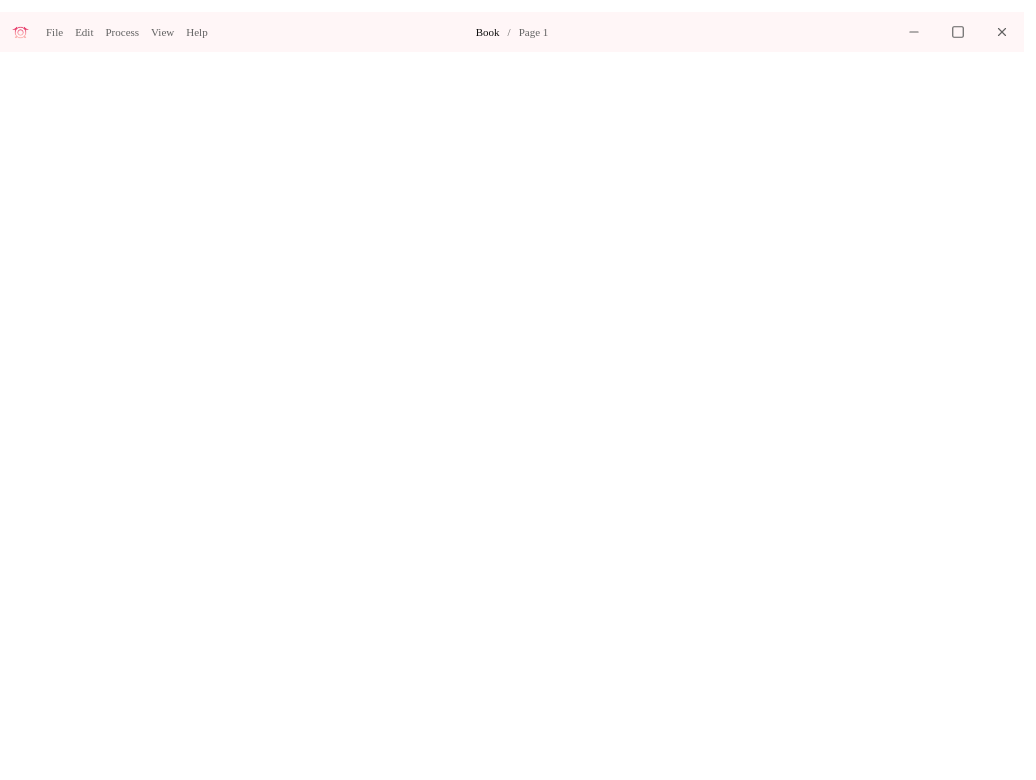
Test case: greenfield editor › clears import activity after failure
Click the menu item "File" at coordinates (55, 32), box x1=40 y1=20 x2=69 y2=44
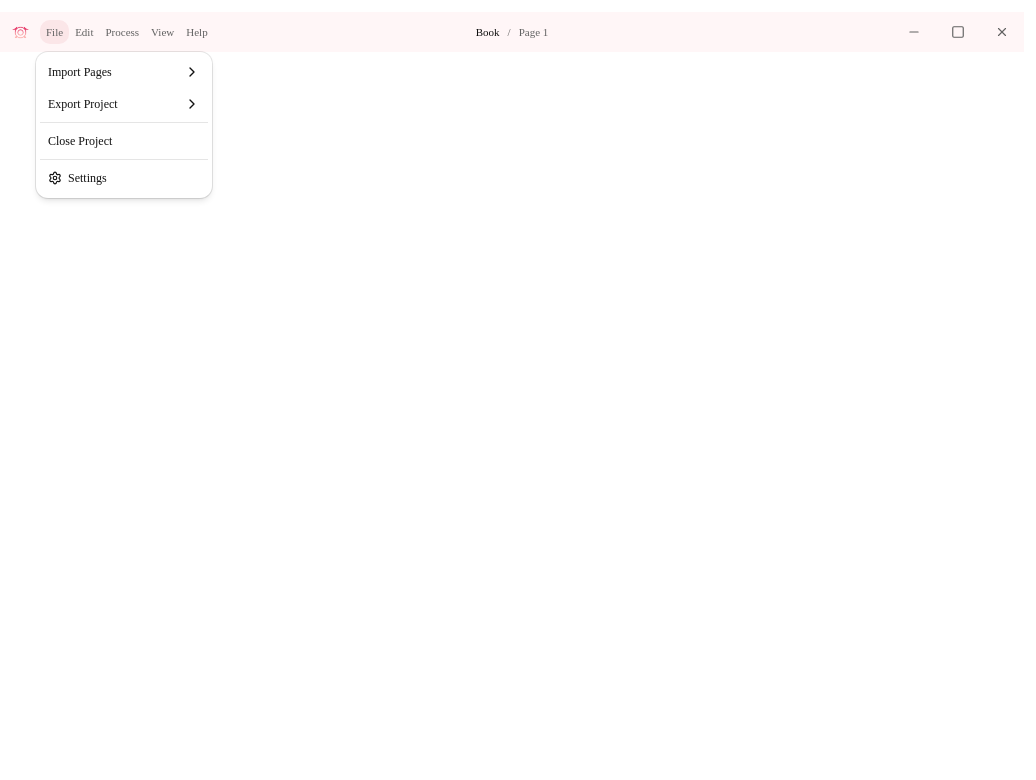
Hover over the menu item "Import Pages" at coordinates (80, 72), box x1=48 y1=64 x2=200 y2=80
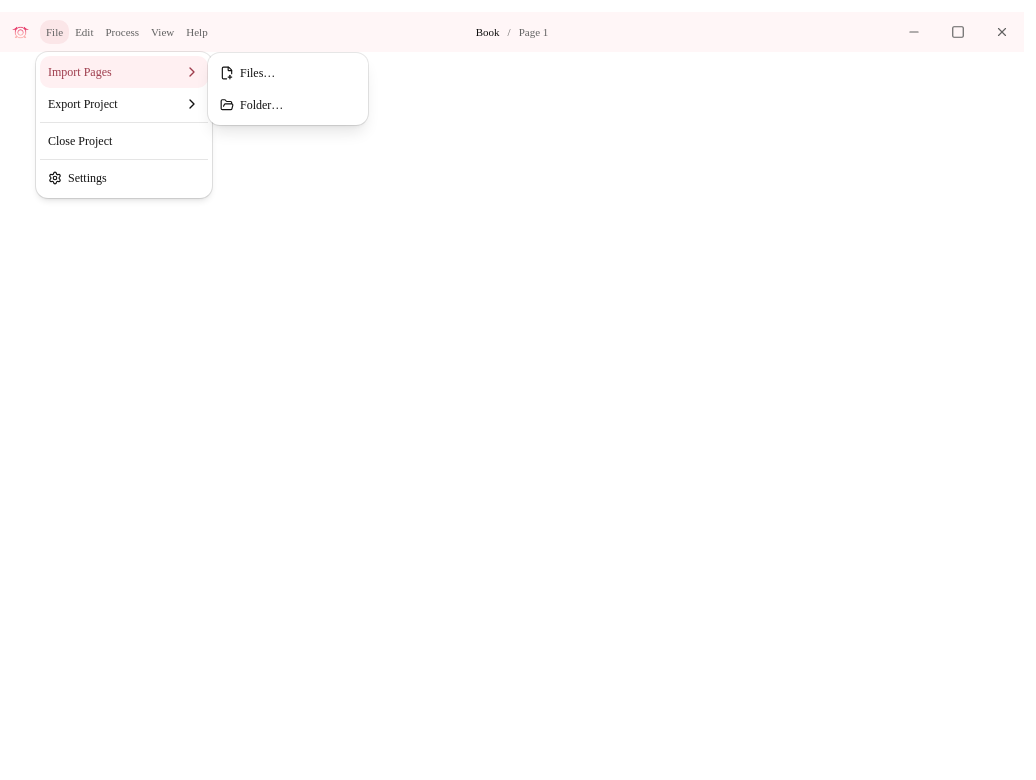
Click the menu item "Files…" at coordinates (248, 73), box x1=220 y1=66 x2=275 y2=80
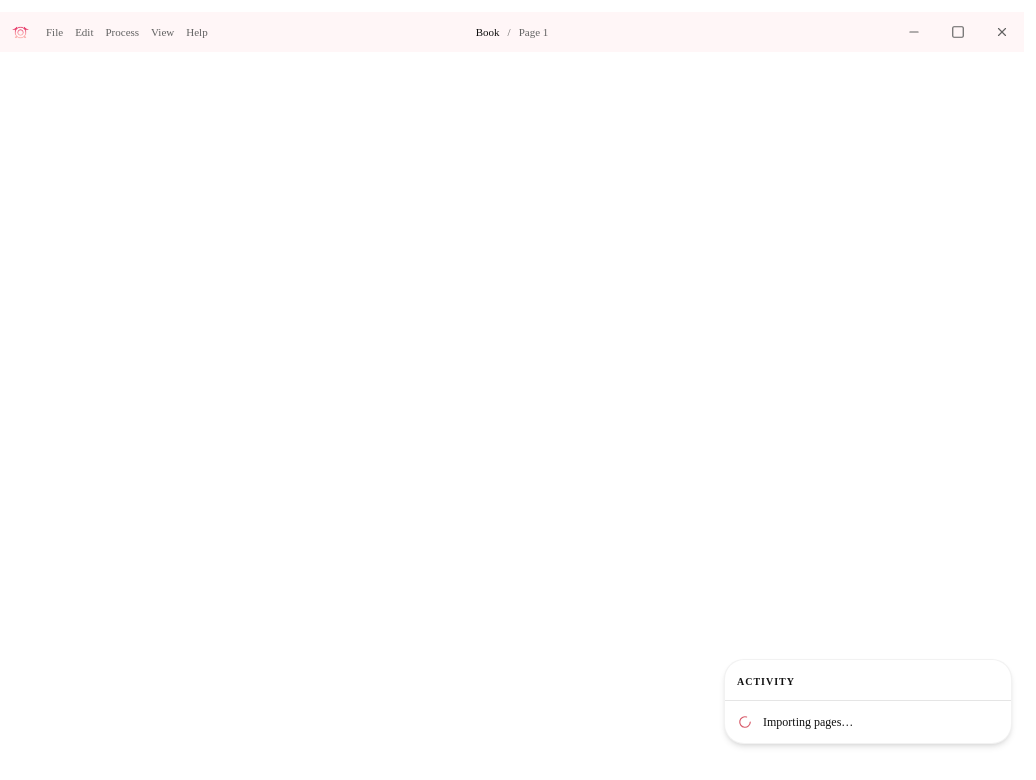
Expected: the message reads "Importing pages…", x1=763 y1=715 x2=853 y2=729
Click the menu item "File" at coordinates (55, 32), box x1=40 y1=20 x2=69 y2=44
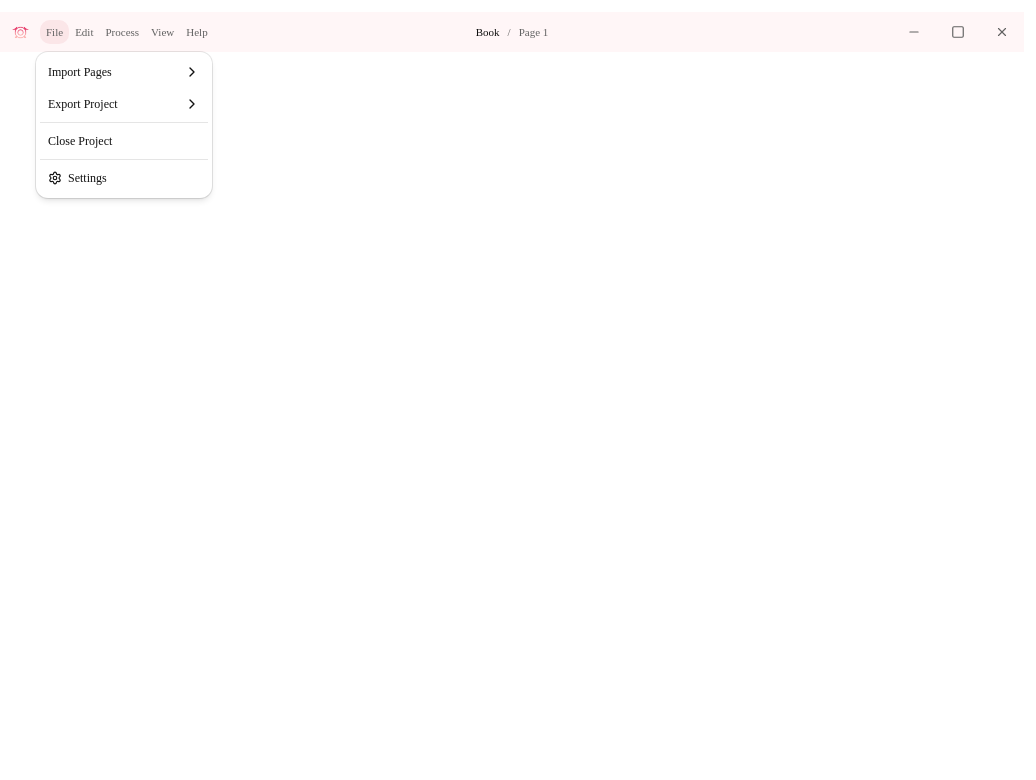
Expected: the text "Activity" is gone
